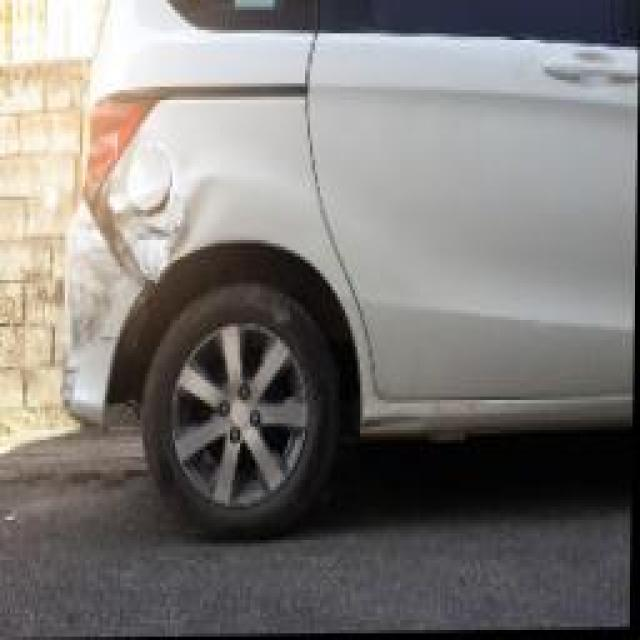Bumper: (62, 189, 146, 429)
Fender: (103, 97, 250, 283)
